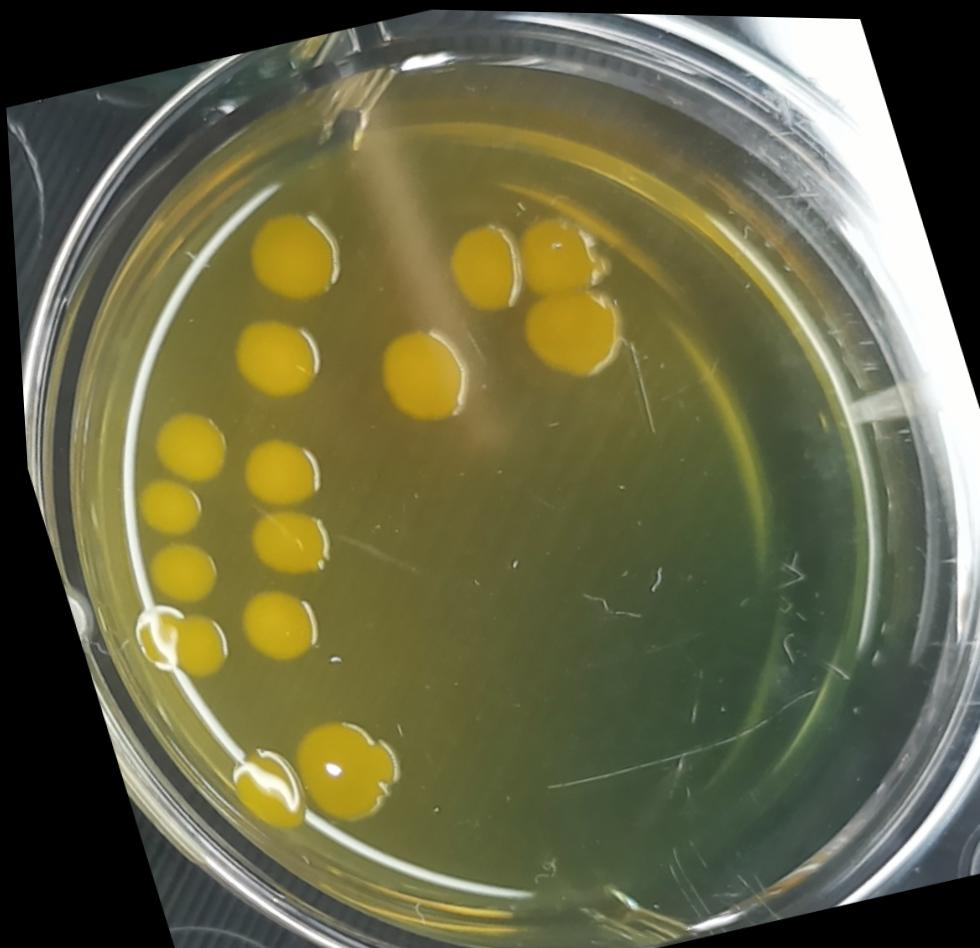vharveyi: (271, 697, 410, 840), (501, 272, 640, 394), (356, 310, 481, 441), (230, 195, 353, 314), (210, 297, 333, 411), (498, 194, 617, 305), (118, 589, 234, 697), (425, 207, 532, 321), (206, 735, 307, 844), (221, 575, 323, 676), (230, 490, 337, 586), (223, 424, 327, 513), (114, 456, 213, 548), (135, 395, 233, 486), (132, 530, 223, 614)
